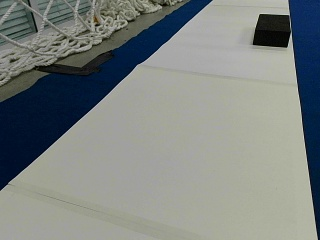block: (252, 13, 289, 47)
